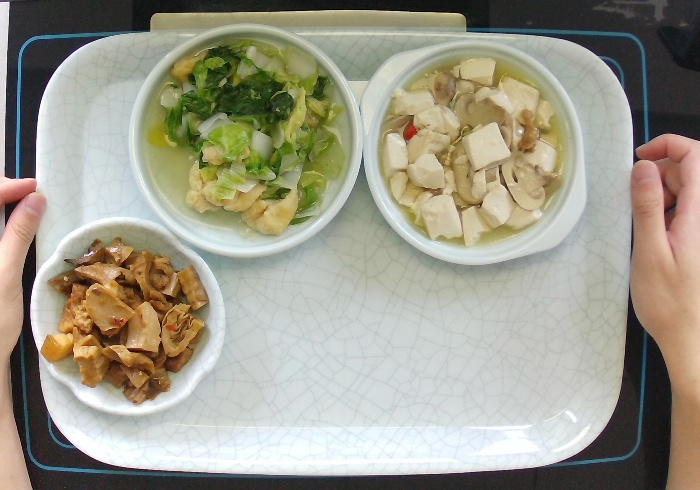JYsf-Ao_Yuan_Wan: (22, 212, 231, 419)
JYsf-Shuang_Er_Pan: (358, 35, 607, 268)
JYsf-Xiao_Yuan_Pan: (123, 19, 369, 263)
